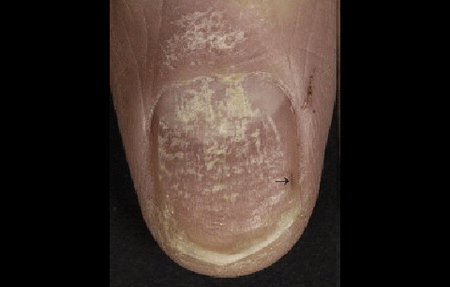Diseased: (126, 19, 311, 197)
